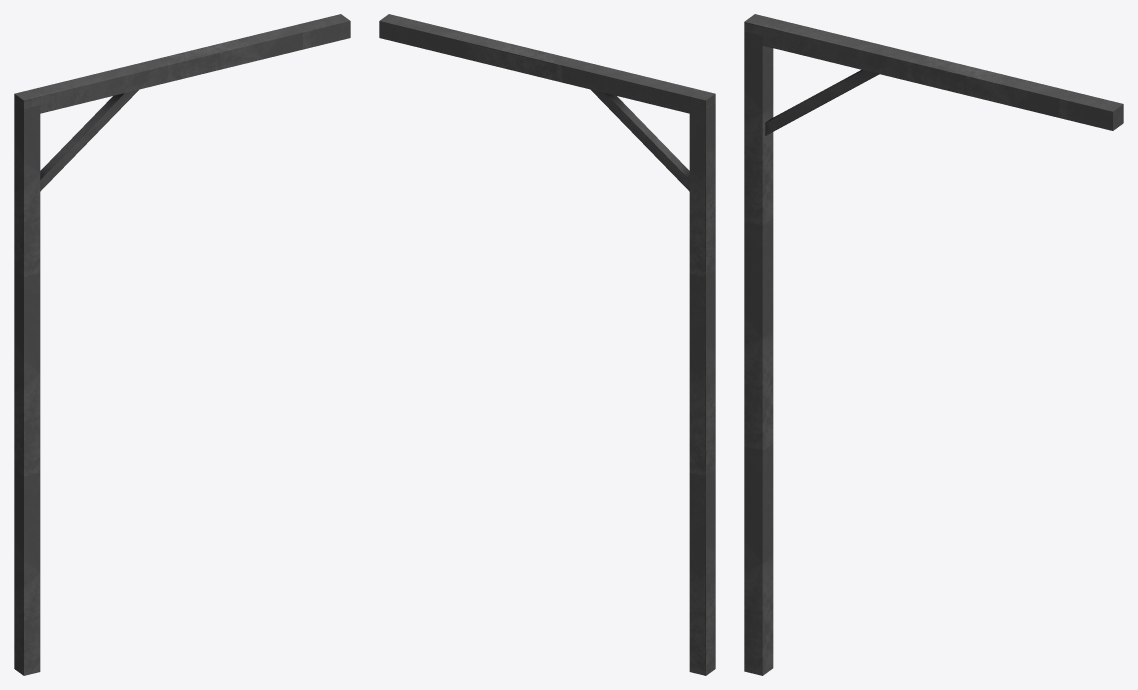
Rendered from pole_lshape_w100cm_200cm.obj.
The picture shows the model from 3 angles, left to right: view 1: azimuth 30°, elevation 25°; view 2: azimuth 150°, elevation 25°; view 3: azimuth 330°, elevation 25°; orthographic projection. The views are drawn at different scales.
Visible parts, largest first — view 1: pole_l200w100, pole_lshape_l200w100, pole_l200w100_2, pole_end_l200w100; view 2: pole_l200w100, pole_lshape_l200w100, pole_l200w100_2, pole_end_l200w100; view 3: pole_l200w100, pole_lshape_l200w100, pole_l200w100_2, pole_end_l200w100.
Part boxes in pixels (x1=…): pole_l200w100: x1=14, y1=102, x2=40, y2=675; pole_lshape_l200w100: x1=14, y1=58, x2=167, y2=191; pole_l200w100_2: x1=158, y1=25, x2=302, y2=82; pole_end_l200w100: x1=294, y1=14, x2=350, y2=49; pole_l200w100: x1=689, y1=102, x2=715, y2=675; pole_lshape_l200w100: x1=562, y1=58, x2=715, y2=191; pole_l200w100_2: x1=427, y1=25, x2=571, y2=82; pole_end_l200w100: x1=379, y1=14, x2=435, y2=49; pole_l200w100: x1=744, y1=31, x2=773, y2=675; pole_lshape_l200w100: x1=744, y1=14, x2=916, y2=135; pole_l200w100_2: x1=906, y1=53, x2=1069, y2=117; pole_end_l200w100: x1=1059, y1=91, x2=1123, y2=130.
Size of the model in its own units: 1.21 by 2.03 by 0.0604.
1 material, 1 textured.
